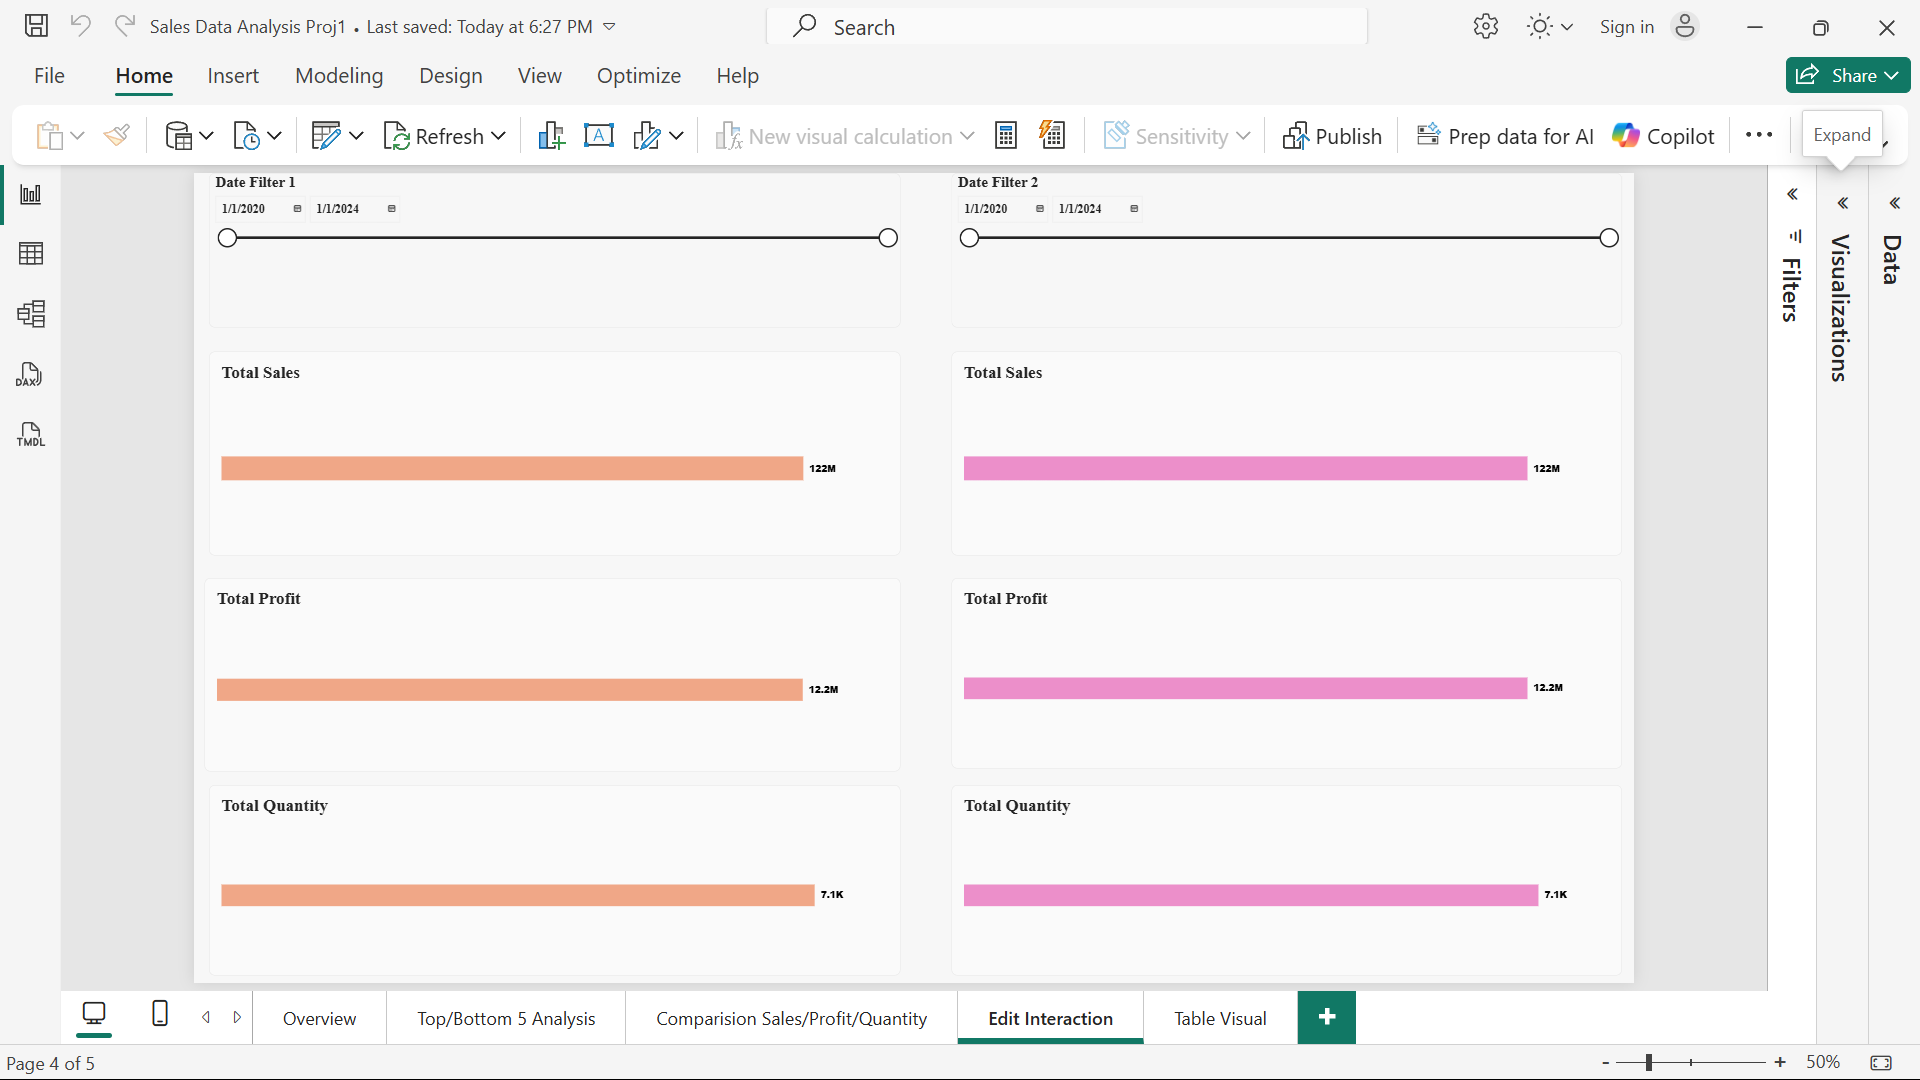

The dashboard page shown, as its layout file describes it:
{"tool":"powerbi","page":{"name":"Edit Interaction","canvas":[1920,1080],"ordinal":3},"visuals":[{"type":"slicer","fields":{"Values":["Fact Table.Date (dd/mm/yyyy)"]},"box":[20,0,922,206],"z":0},{"type":"slicer","fields":{"Values":["Fact Table.Date (dd/mm/yyyy)"]},"box":[1010,0,894,206],"z":1},{"type":"barChart","title":"Total Sales","fields":{"Y":["Sum(Fact Table.Net Sales)"]},"box":[20,238,922,272],"z":2},{"type":"barChart","title":"Total Profit","fields":{"Y":["Sum(Fact Table.Profit)"]},"box":[14,540,928,258],"z":3},{"type":"barChart","title":"Total Quantity","fields":{"Y":["Sum(Fact Table.Units Sold)"]},"box":[20,816,922,254],"z":4},{"type":"barChart","title":"Total Sales","fields":{"Y":["Sum(Fact Table.Net Sales)"]},"box":[1010,238,894,272],"z":5},{"type":"barChart","title":"Total Profit","fields":{"Y":["Sum(Fact Table.Profit)"]},"box":[1010,540,894,254],"z":6},{"type":"barChart","title":"Total Quantity","fields":{"Y":["Sum(Fact Table.Units Sold)"]},"box":[1010,816,894,254],"z":7}]}

Visuals, with their boxes on the page's 1920x1080 design canvas (x1, y1, x2, y2). These are canvas units, not pixel positions in the 1920x1080 screenshot, which may show the page scaled, cropped or inside an application window:
slicer - Fact Table.Date (dd/mm/yyyy): BBox(20, 0, 942, 206)
slicer - Fact Table.Date (dd/mm/yyyy): BBox(1010, 0, 1904, 206)
"Total Sales" barChart: BBox(20, 238, 942, 510)
"Total Profit" barChart: BBox(14, 540, 942, 798)
"Total Quantity" barChart: BBox(20, 816, 942, 1070)
"Total Sales" barChart: BBox(1010, 238, 1904, 510)
"Total Profit" barChart: BBox(1010, 540, 1904, 794)
"Total Quantity" barChart: BBox(1010, 816, 1904, 1070)
